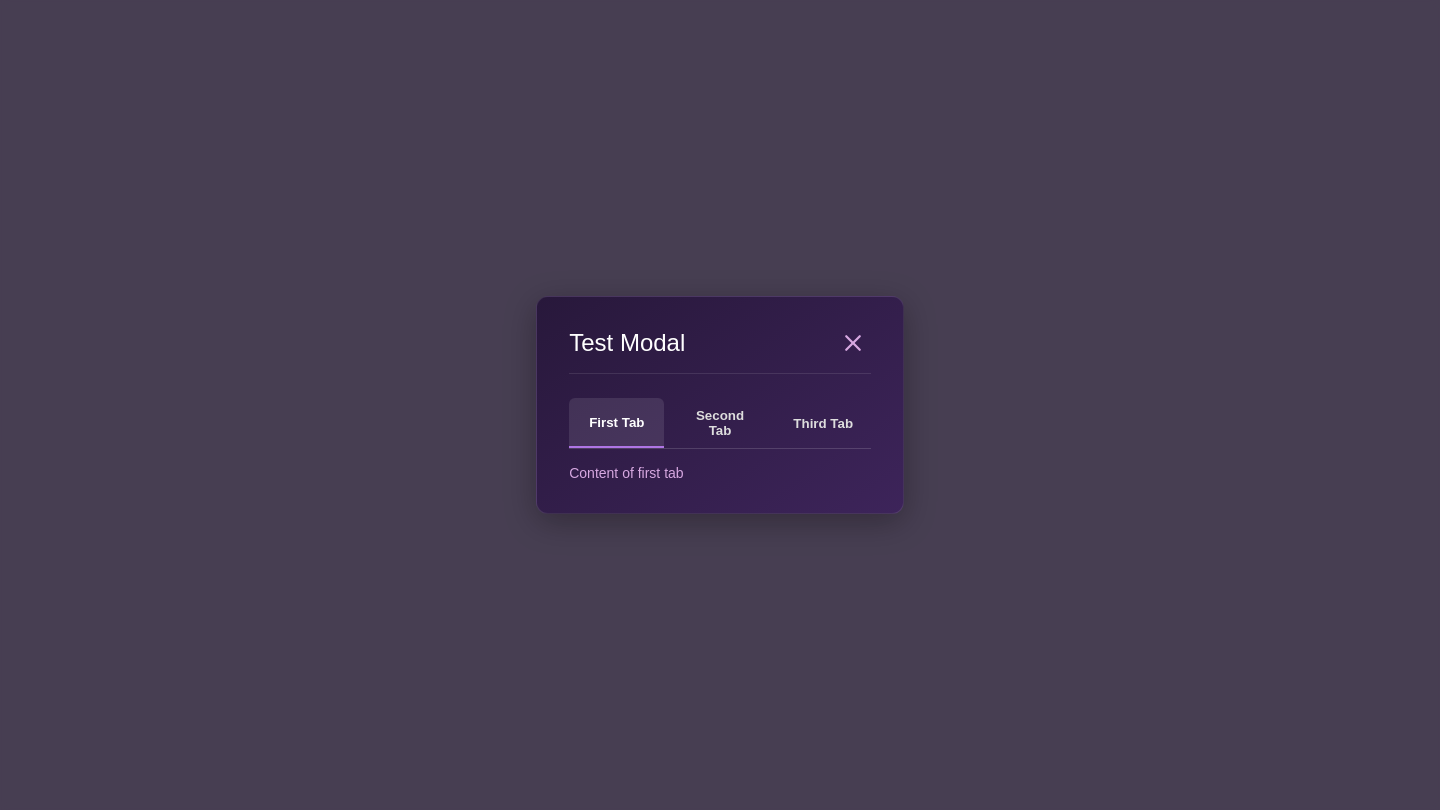
Scenario: BaseTabbedModal › Tab Navigation › switches to all tabs correctly
Click through all tabs
Click the button "Second Tab" at (720, 423), box [672,398,768,448]
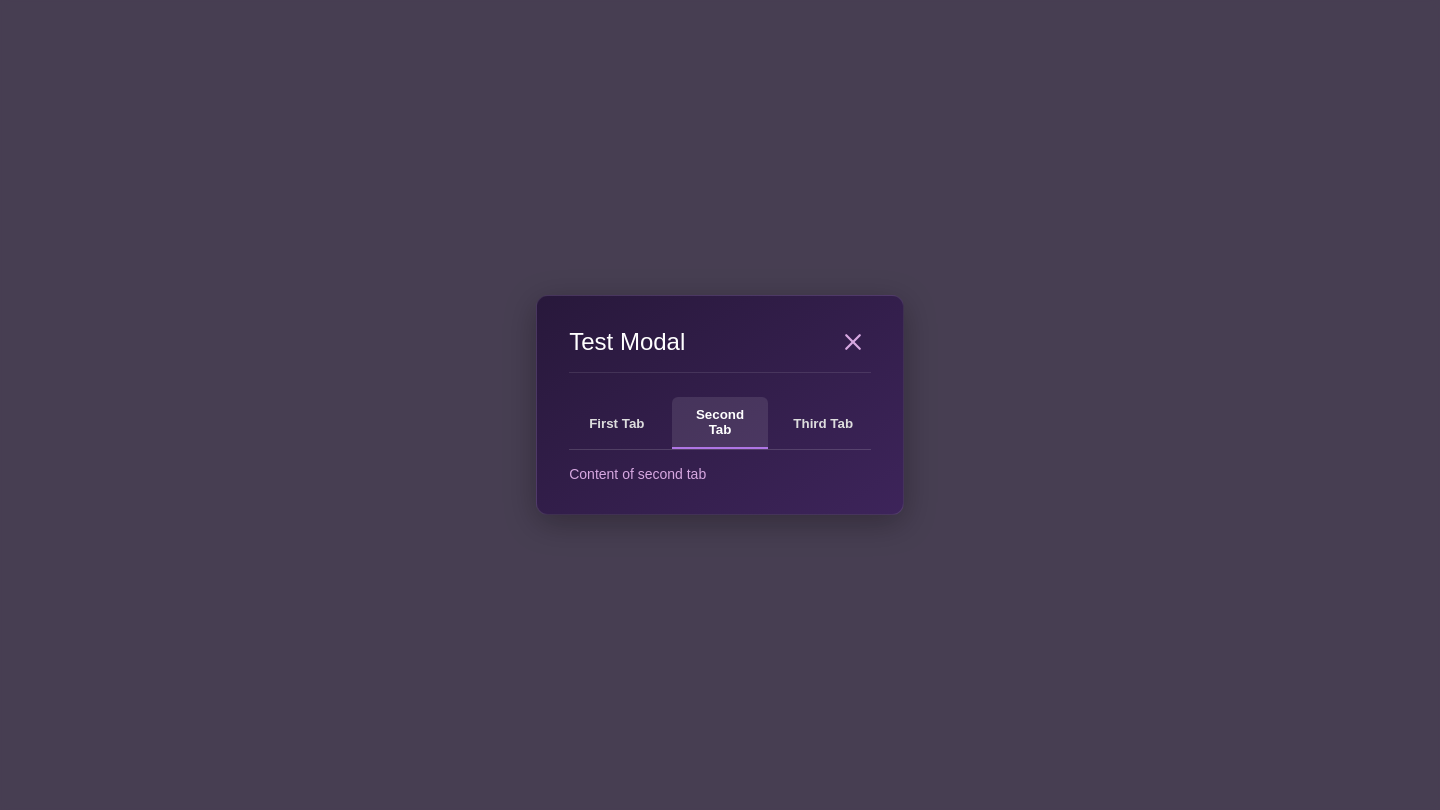
Now the text "Content of second tab" is shown, box [569,466,706,482]
Click the button "Third Tab" at (823, 423), box [776,397,871,449]
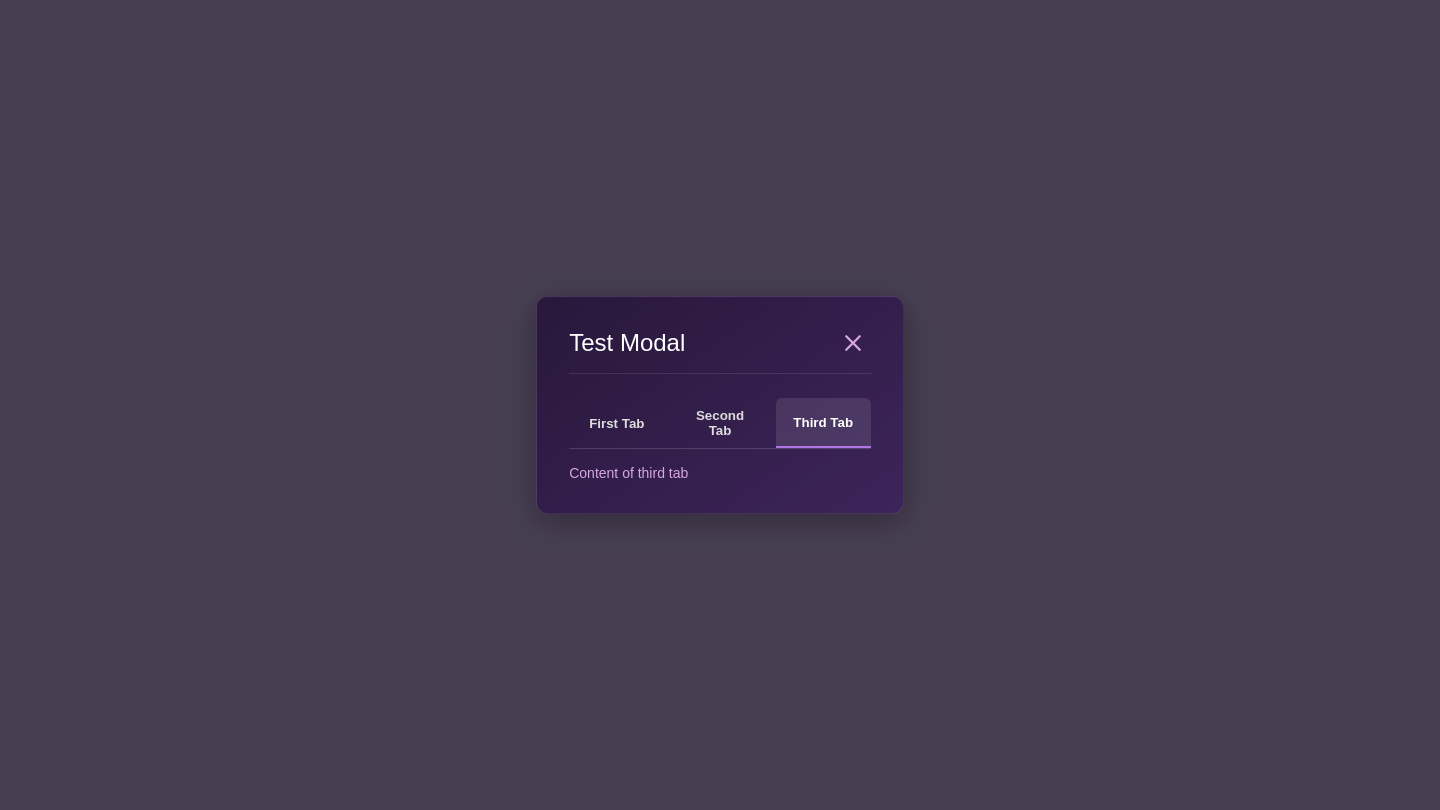
Now the text "Content of third tab" is shown, box [569,465,688,481]
Click the button "First Tab" at (617, 423), box [569,398,664,448]
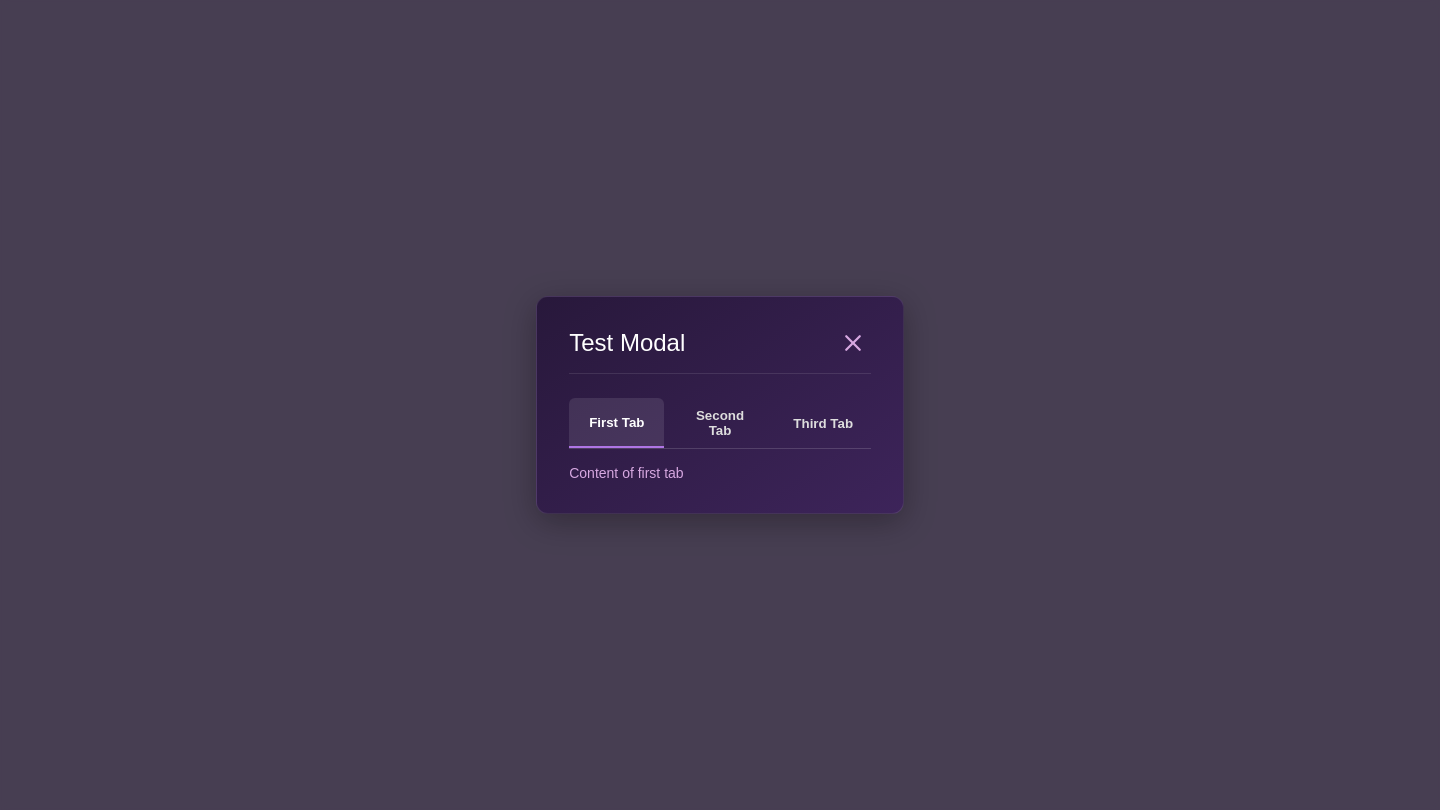
Now the text "Content of first tab" is shown, box [569,465,684,481]
